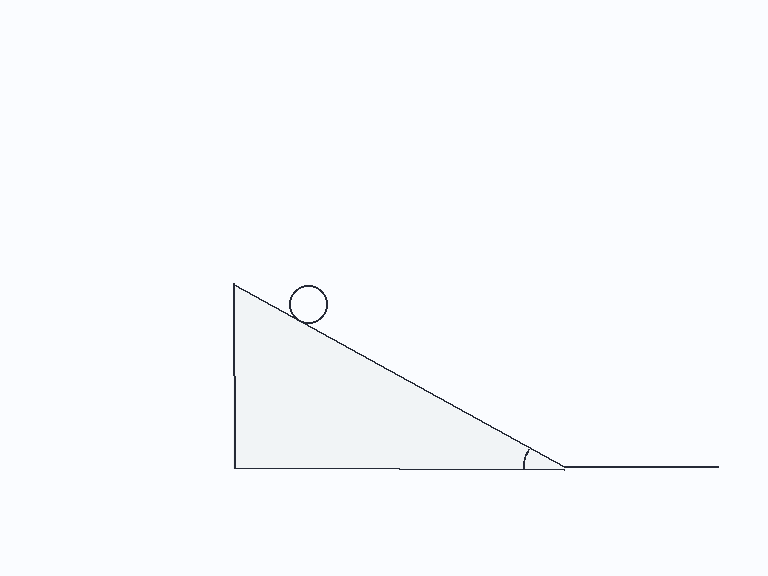ball: (287, 283, 329, 325)
ramp: (231, 283, 566, 470)
